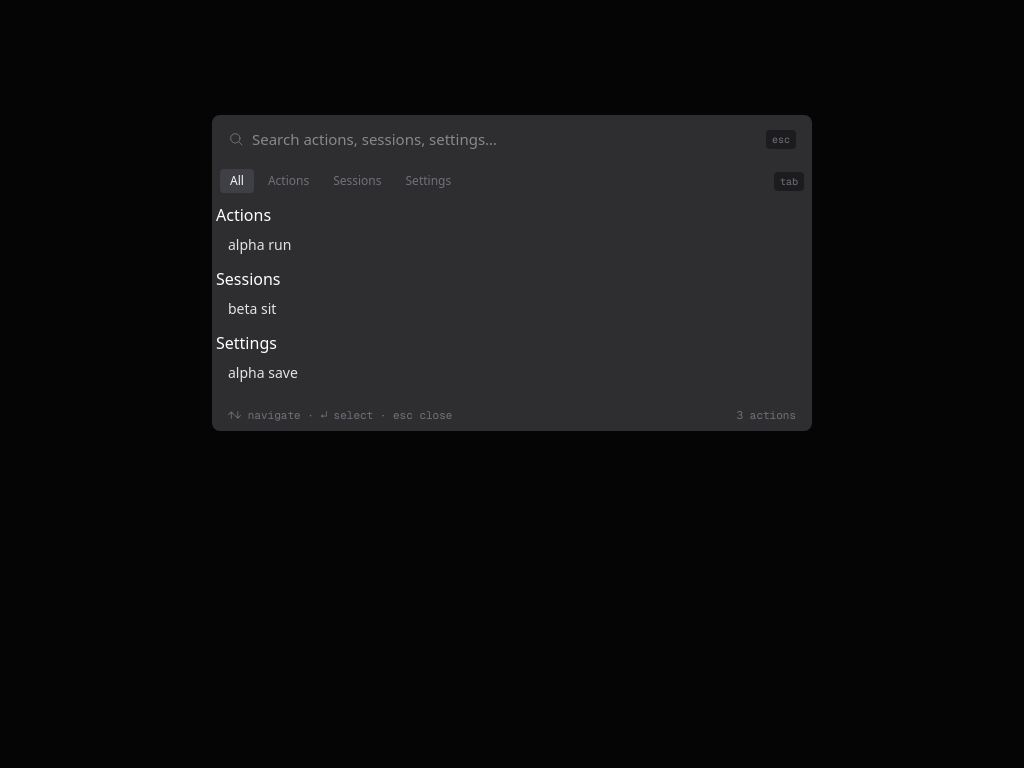
Test case: CommandPalette › category tabs › drops a tab and trims the footer count when a query filters a group out
This screenshot has width=1024, height=768.
Check: the text "3 actions" is shown, box [737,407,796,423]
// "alpha" matches the Actions + Settings rows but not the Sessions row.
In the dropdown with placeholder "Search actions, sessions, settings…": point(505, 139) [252,128,758,150], type "alpha"
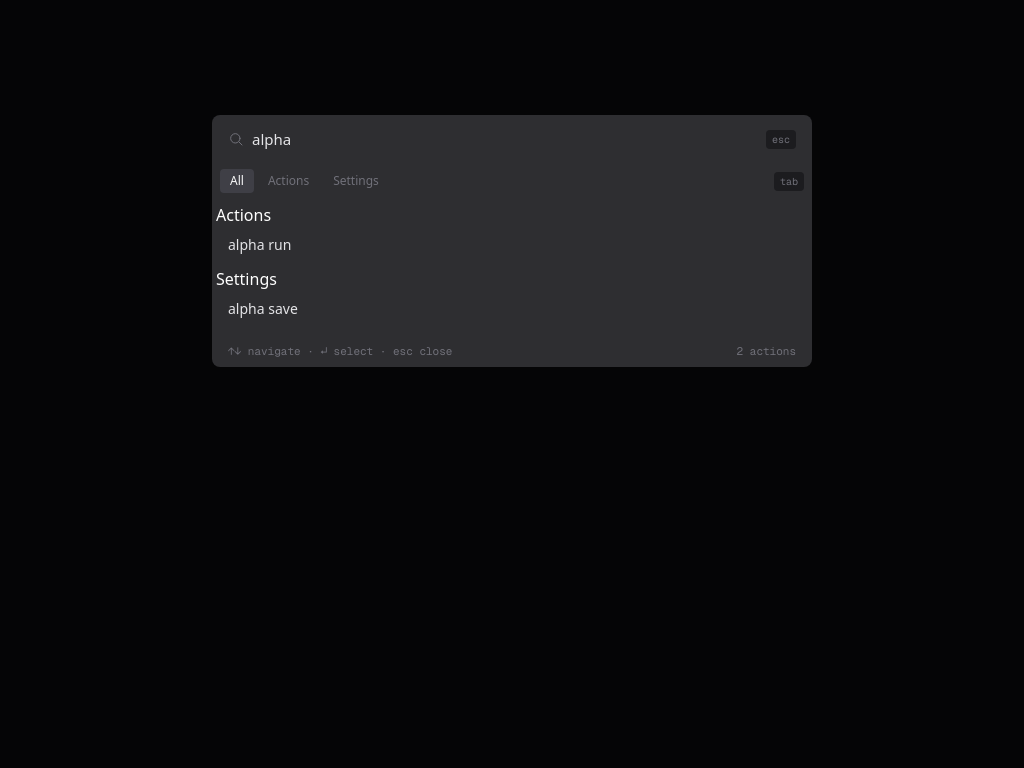
Check: the tab "Actions" is shown, box [258,169,319,193]
Check: the text "2 actions" is shown, box [737,343,796,359]
Check: the tab "Sessions" is gone
